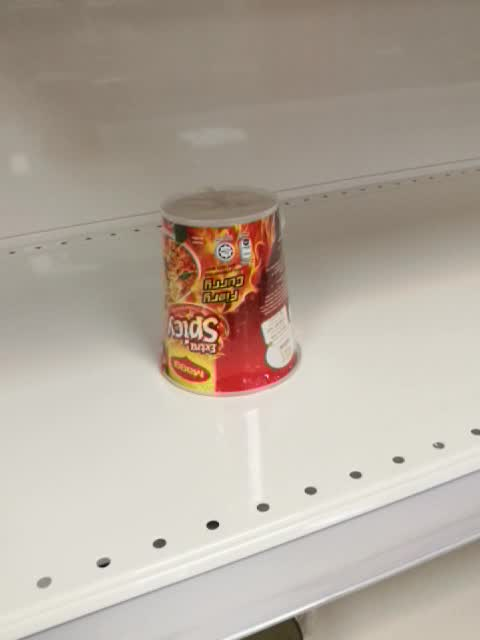maggi: (157, 186, 304, 400)
